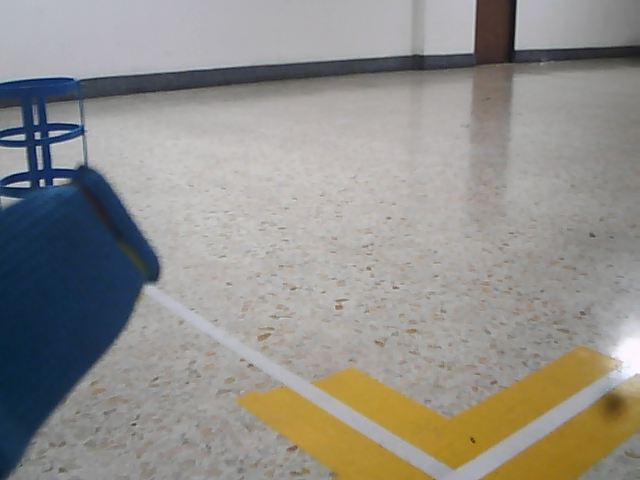Cyro: (1, 75, 88, 207)
